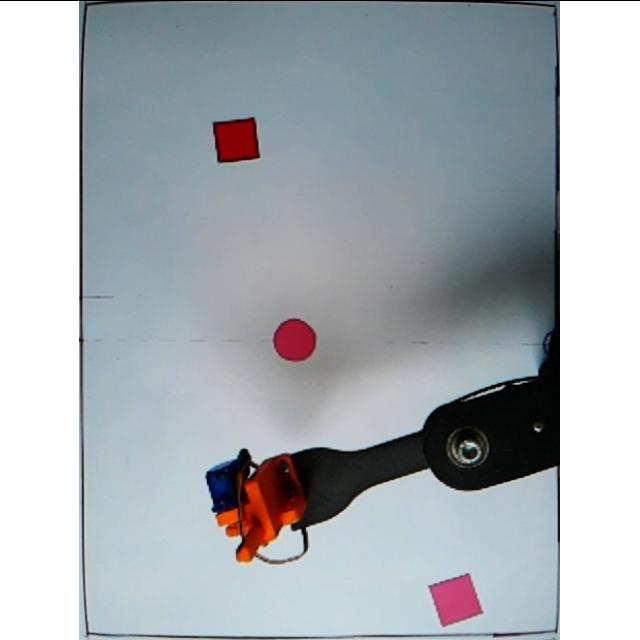pinkCircle: (273, 316, 319, 362)
pinkSquare: (428, 570, 487, 628)
redSquare: (213, 115, 264, 163)
